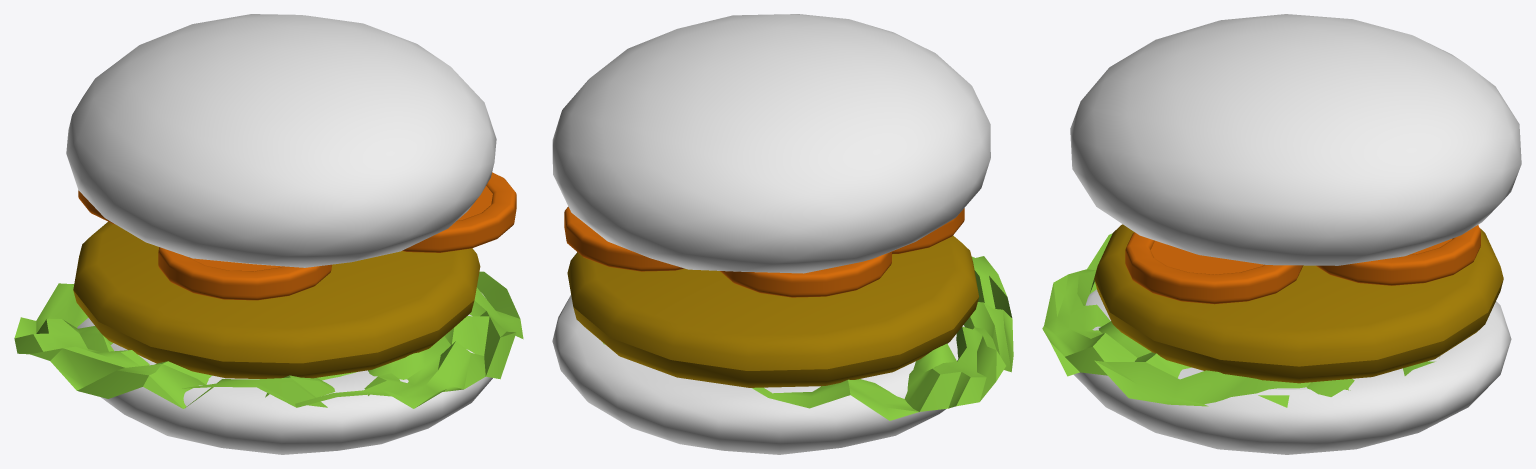
The model's file is panino.gltf.
The picture shows the model from 3 angles, left to right: view 1: azimuth 30°, elevation 25°; view 2: azimuth 150°, elevation 25°; view 3: azimuth 270°, elevation 25°; orthographic projection.
Visible parts, largest first — view 1: FETTA SUP, carne, lattuga, FETTA giù, Tube (×2), Cylinder; view 2: FETTA SUP, carne, FETTA giù, lattuga, Tube (×3); view 3: FETTA SUP, carne, FETTA giù, lattuga, Tube (×2), Cylinder.
Part boxes in pixels (left/top/right/bottom): FETTA SUP: left=66, top=14, right=496, bottom=267; carne: left=73, top=221, right=480, bottom=378; lattuga: left=14, top=271, right=523, bottom=408; FETTA giù: left=77, top=292, right=492, bottom=454; Tube (×2): left=158, top=172, right=516, bottom=300; Cylinder: left=189, top=257, right=281, bottom=271; FETTA SUP: left=552, top=14, right=990, bottom=273; carne: left=567, top=235, right=978, bottom=387; FETTA giù: left=552, top=295, right=964, bottom=454; lattuga: left=602, top=256, right=1013, bottom=420; Tube (×3): left=564, top=206, right=964, bottom=297; FETTA SUP: left=1070, top=14, right=1521, bottom=265; carne: left=1094, top=224, right=1503, bottom=383; FETTA giù: left=1073, top=289, right=1511, bottom=454; lattuga: left=1042, top=233, right=1435, bottom=407; Tube (×2): left=1125, top=225, right=1480, bottom=304; Cylinder: left=1150, top=240, right=1263, bottom=274.
Size of the model in its own units: 201 by 159 by 193.
